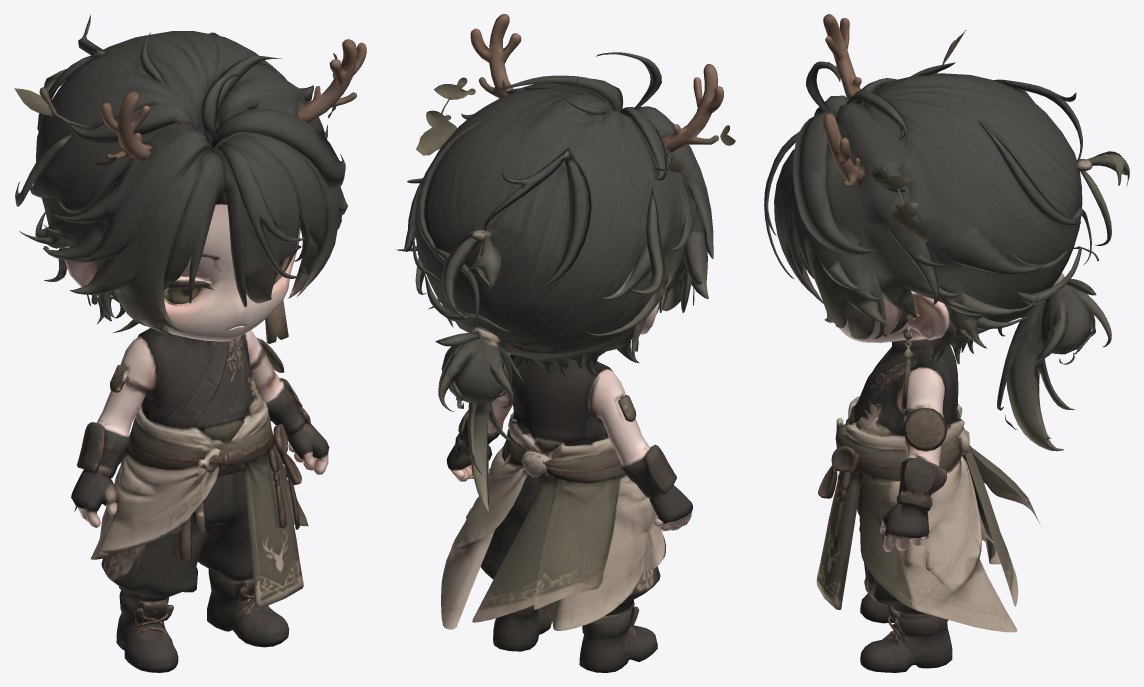
The model's file is source.glb.
3 renders of one model, left to right at view 1: azimuth 30°, elevation 25°; view 2: azimuth 150°, elevation 25°; view 3: azimuth 270°, elevation 25°, orthographic. The views are drawn at different scales.
Visible parts, largest first — view 1: tripo_part_0, tripo_part_3, tripo_part_10, tripo_part_5, tripo_part_13, tripo_part_1, tripo_part_4, tripo_part_2, tripo_part_8, tripo_part_7, tripo_part_17, tripo_part_12 (+8 smaller); view 2: tripo_part_0, tripo_part_3, tripo_part_10, tripo_part_4, tripo_part_6, tripo_part_7, tripo_part_16, tripo_part_5, tripo_part_9, tripo_part_15, tripo_part_12, tripo_part_8 (+11 smaller); view 3: tripo_part_0, tripo_part_3, tripo_part_13, tripo_part_2, tripo_part_10, tripo_part_15, tripo_part_8, tripo_part_6, tripo_part_1, tripo_part_19, tripo_part_9, tripo_part_30 (+13 smaller).
Part boxes in pixels (left/top/right/bottom): tripo_part_0: left=19, top=31, right=347, bottom=334; tripo_part_3: left=74, top=402, right=308, bottom=559; tripo_part_10: left=133, top=328, right=254, bottom=446; tripo_part_5: left=101, top=470, right=253, bottom=601; tripo_part_13: left=198, top=401, right=303, bottom=607; tripo_part_1: left=64, top=204, right=300, bottom=341; tripo_part_4: left=71, top=338, right=155, bottom=527; tripo_part_2: left=244, top=330, right=329, bottom=474; tripo_part_8: left=207, top=569, right=289, bottom=647; tripo_part_7: left=116, top=590, right=178, bottom=672; tripo_part_17: left=217, top=144, right=307, bottom=278; tripo_part_12: left=299, top=39, right=366, bottom=123; tripo_part_0: left=396, top=78, right=713, bottom=377; tripo_part_3: left=441, top=438, right=666, bottom=630; tripo_part_10: left=510, top=355, right=613, bottom=451; tripo_part_4: left=590, top=371, right=692, bottom=531; tripo_part_6: left=438, top=327, right=513, bottom=411; tripo_part_7: left=579, top=603, right=657, bottom=672; tripo_part_16: left=484, top=148, right=591, bottom=292; tripo_part_5: left=480, top=479, right=660, bottom=615; tripo_part_9: left=661, top=64, right=723, bottom=151; tripo_part_15: left=468, top=402, right=513, bottom=512; tripo_part_12: left=470, top=14, right=521, bottom=98; tripo_part_8: left=493, top=605, right=551, bottom=651; tripo_part_0: left=774, top=73, right=1082, bottom=365; tripo_part_3: left=845, top=396, right=1040, bottom=632; tripo_part_13: left=816, top=417, right=964, bottom=609; tripo_part_2: left=880, top=369, right=946, bottom=551; tripo_part_10: left=849, top=336, right=960, bottom=435; tripo_part_15: left=997, top=299, right=1075, bottom=451; tripo_part_8: left=860, top=605, right=952, bottom=672; tripo_part_6: left=1036, top=273, right=1111, bottom=360; tripo_part_1: left=839, top=290, right=949, bottom=342; tripo_part_19: left=979, top=121, right=1091, bottom=264; tripo_part_9: left=823, top=14, right=861, bottom=98; tripo_part_30: left=903, top=407, right=947, bottom=451.
Bounding box in the file's own units: 0.5213 × 1 × 0.575.
Materials: 1 (1 with a texture image).
